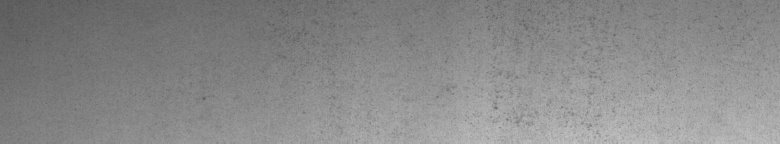ib: (442, 5, 607, 134)
